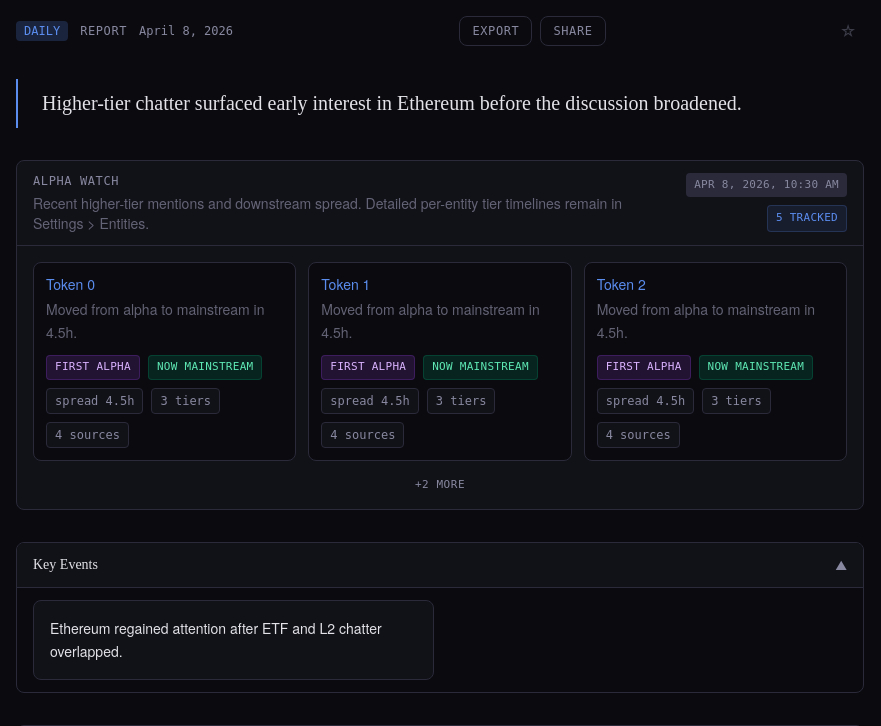
it: ReportView alpha watch › shows overflow control when more than 3 alpha watch entries exist
Expected: the heading "Alpha Watch" is shown, x1=33 y1=174 x2=119 y2=188
Expected: the text "5 tracked" is shown, x1=767 y1=205 x2=847 y2=232
Click the button "+2 more" at (440, 485), box x1=415 y1=477 x2=465 y2=493
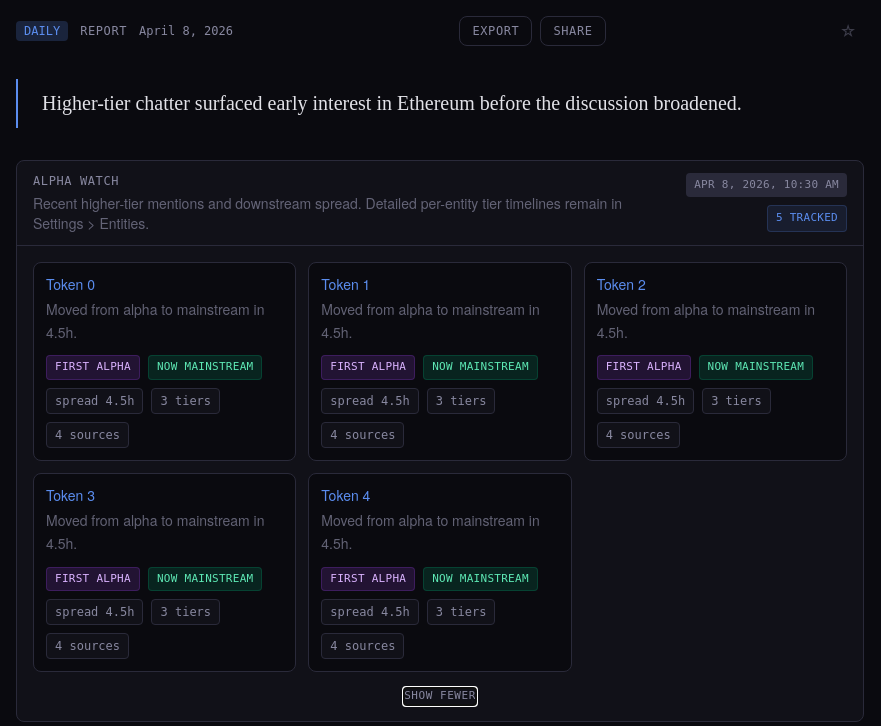
Now the heading "Token 3" is shown, box x1=46 y1=485 x2=95 y2=505
Now the heading "Token 4" is shown, box x1=321 y1=485 x2=370 y2=505
Now the button "Show fewer" is shown
Click the button "Show fewer" at (440, 697), box x1=404 y1=688 x2=476 y2=705
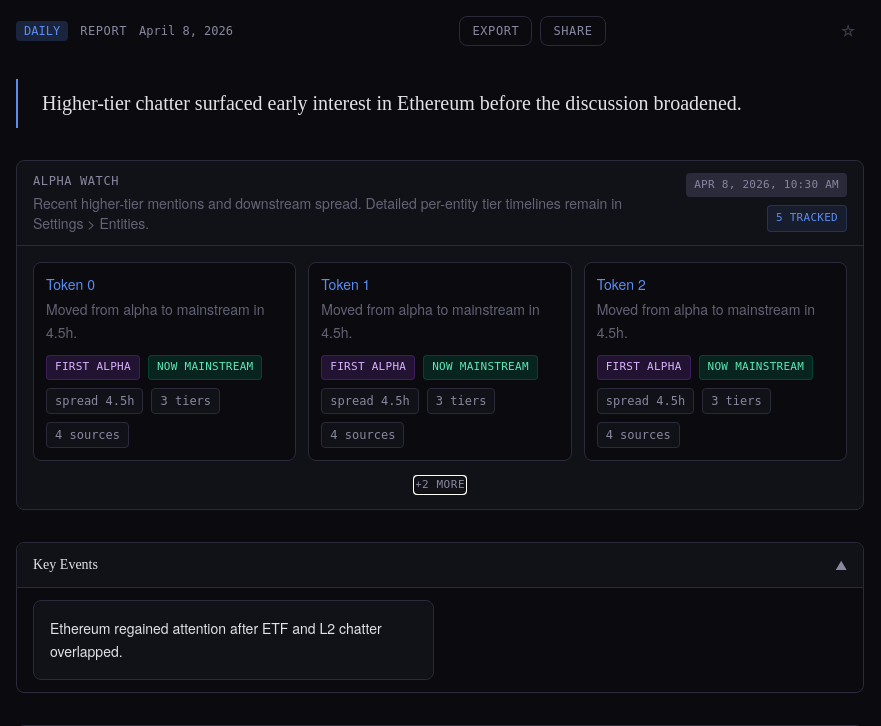
Now the link "Token 3" is gone
Now the button "+2 more" is shown, box x1=415 y1=477 x2=465 y2=493
